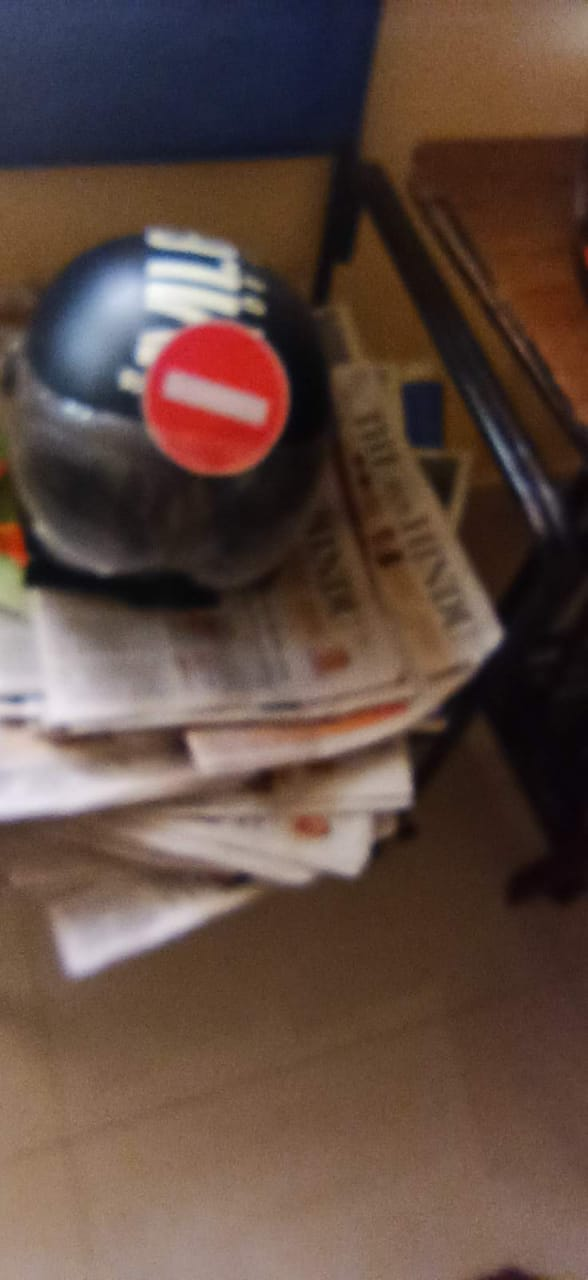NO ENTRY: (131, 299, 308, 487)
